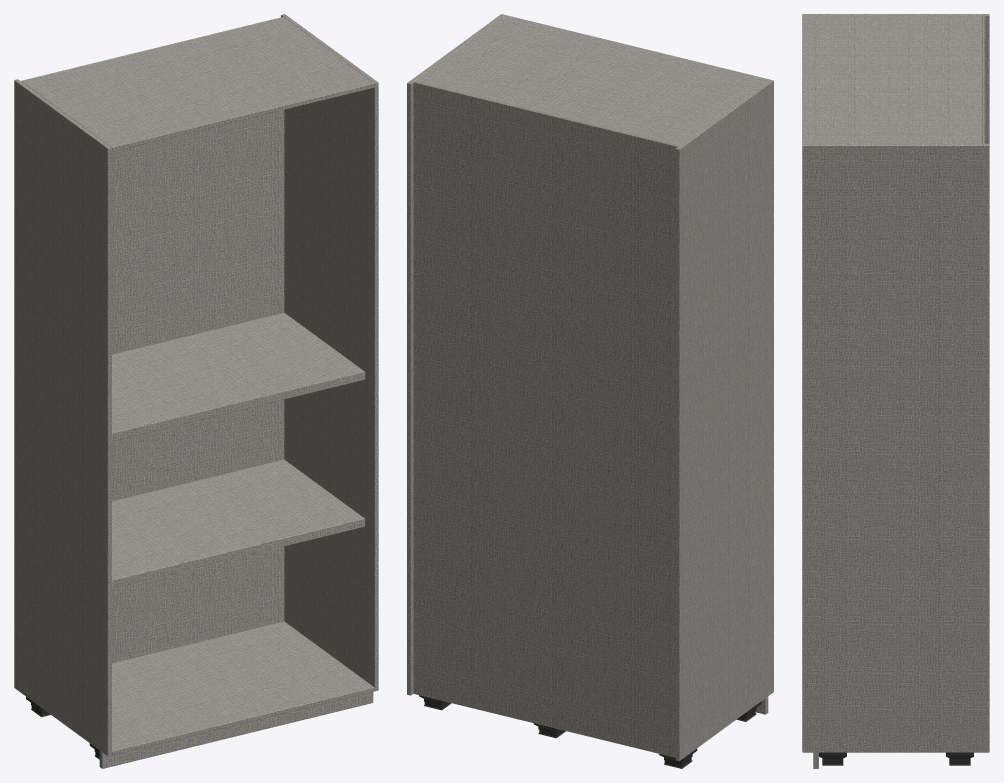
The model's file is cbib12145.gltf.
3 views of the same model, side by side, from view 1: azimuth 30°, elevation 25°; view 2: azimuth 150°, elevation 25°; view 3: azimuth 270°, elevation 25° (orthographic).
Parts seen in each view (by area): view 1: CBIB12145; view 2: CBIB12145; view 3: CBIB12145.
Boxes of the visible parts, bbox=[...] form: CBIB12145: bbox=[14, 14, 378, 768]; CBIB12145: bbox=[407, 14, 773, 768]; CBIB12145: bbox=[802, 14, 989, 768].
Bounding box in the file's own units: 1 × 2.2 × 0.6.
Materials: 3 (2 with a texture image).
